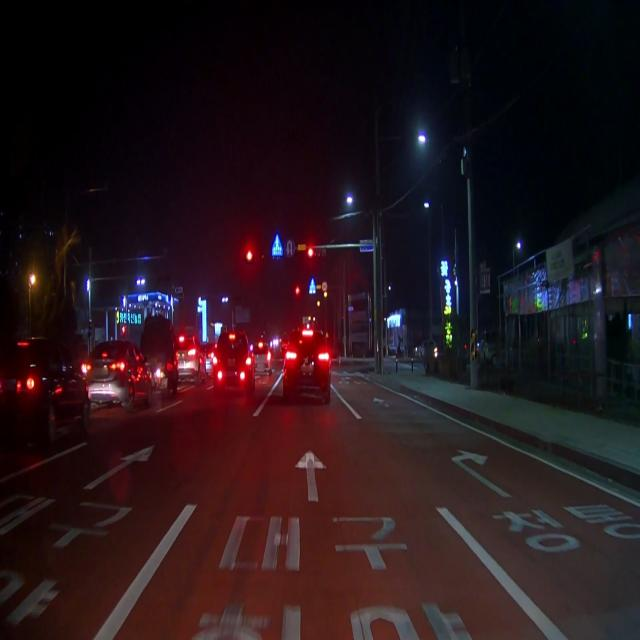Red Light: (246, 250, 253, 262), (308, 248, 314, 258)
